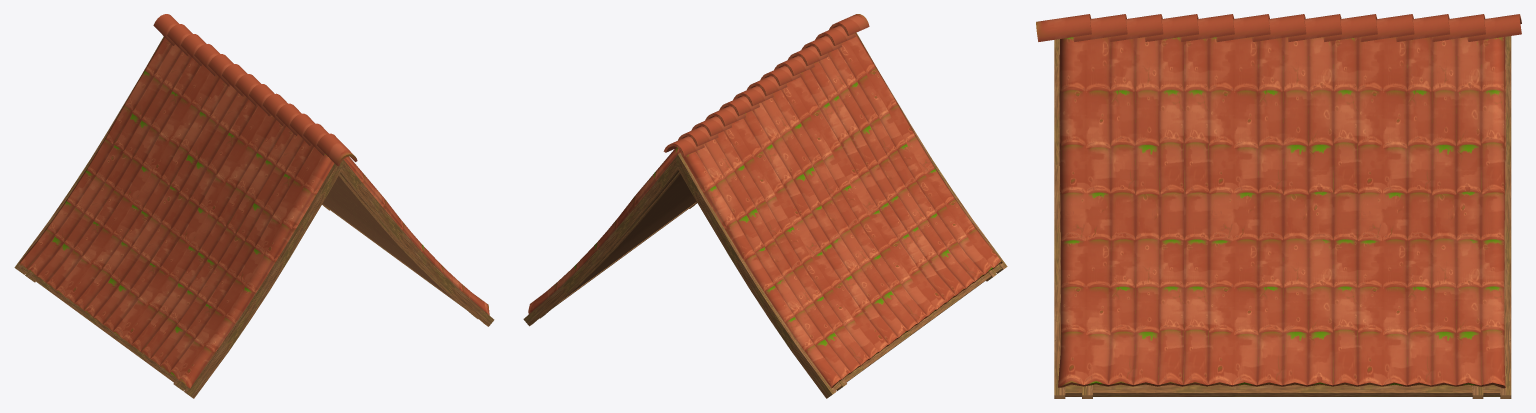
Rendered from Roof_RoundTiles_8x8.gltf.
3 views of the same model, side by side, from view 1: azimuth 30°, elevation 25°; view 2: azimuth 150°, elevation 25°; view 3: azimuth 270°, elevation 25° (orthographic). The views are drawn at different scales.
Visible parts, largest first — view 1: Roof_RoundTiles_8x8; view 2: Roof_RoundTiles_8x8; view 3: Roof_RoundTiles_8x8.
Boxes of the visible parts, x1,y1,x2,y2 form: Roof_RoundTiles_8x8: (14,14,494,398); Roof_RoundTiles_8x8: (523,14,1007,398); Roof_RoundTiles_8x8: (1036,14,1521,398).
Size of the model in its own units: 9.95 by 6.78 by 10.33.
Materials: 2 (2 with a texture image).
